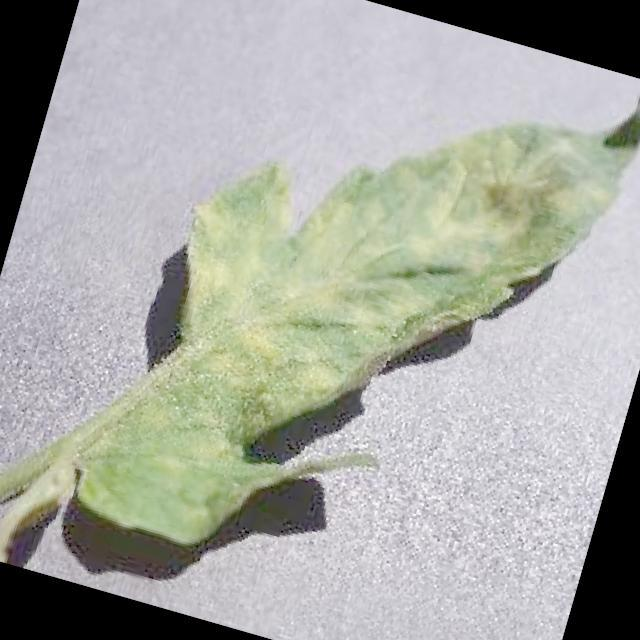Tomato mold leaf: (63, 0, 640, 634)
